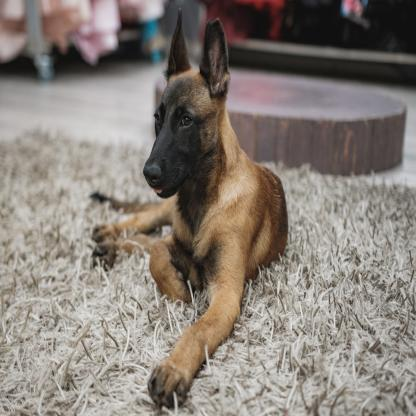dog: (91, 6, 293, 406)
